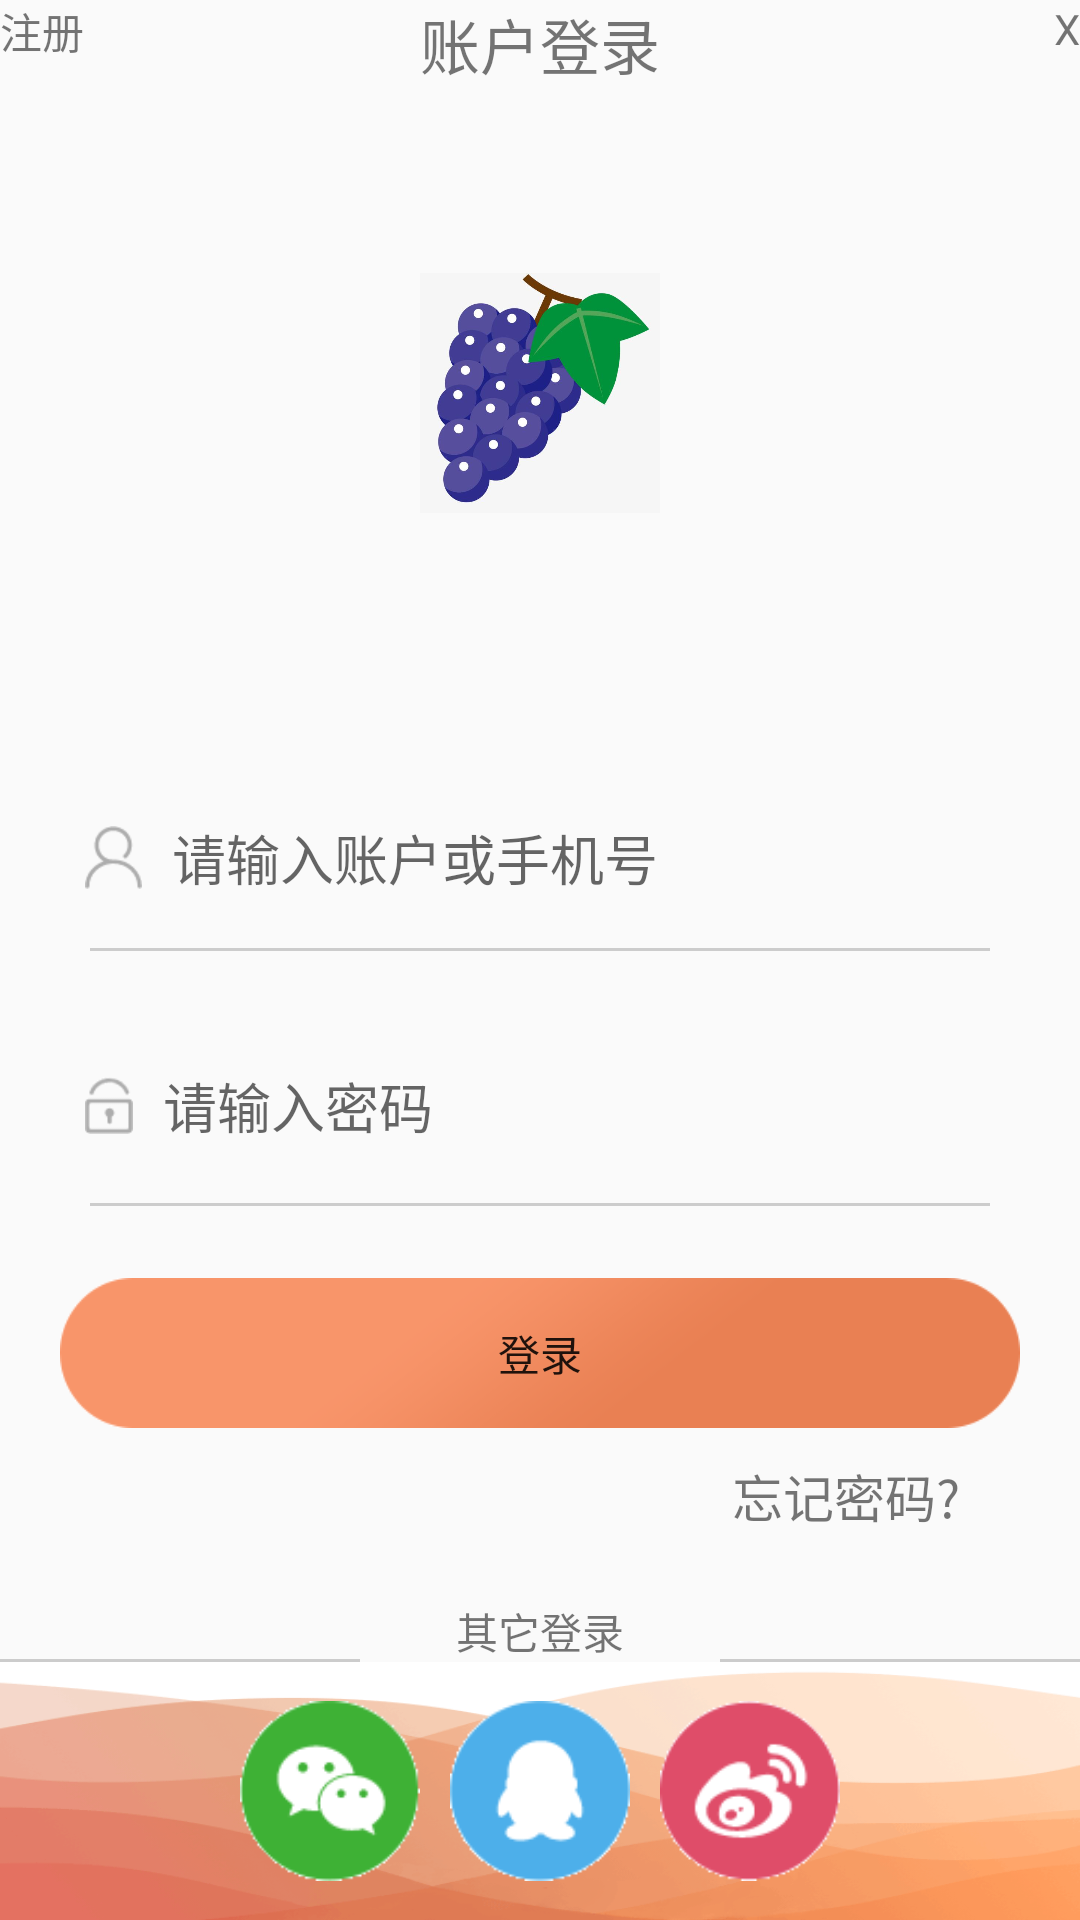

Screen size 1080x1920. Icon name, then its center in pixels as [x,y]:
appicon: [543,388]
